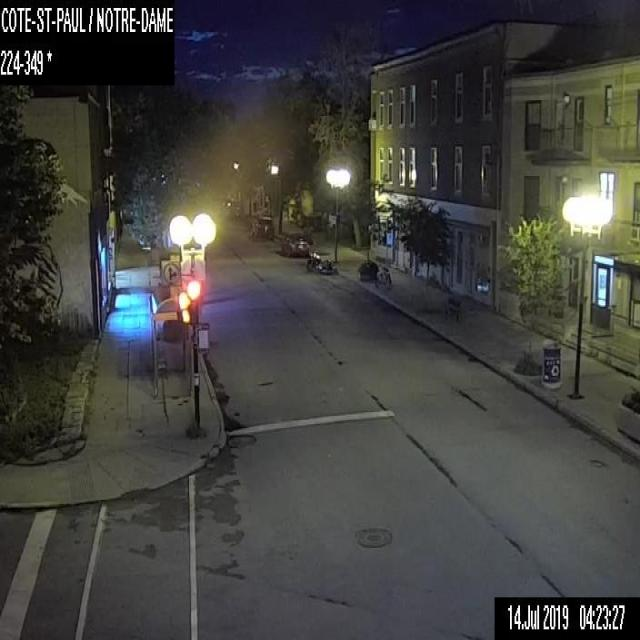vehicle: (305, 248, 332, 274), (282, 232, 308, 257), (248, 216, 273, 239)
